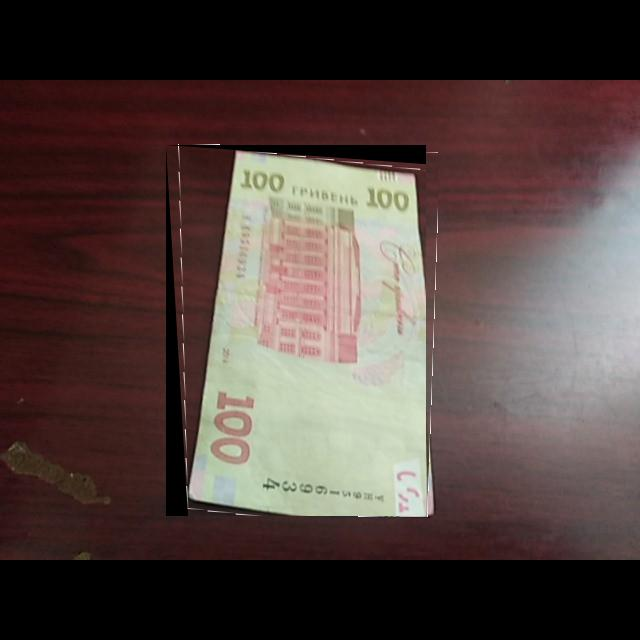100uah: (183, 150, 427, 517)
